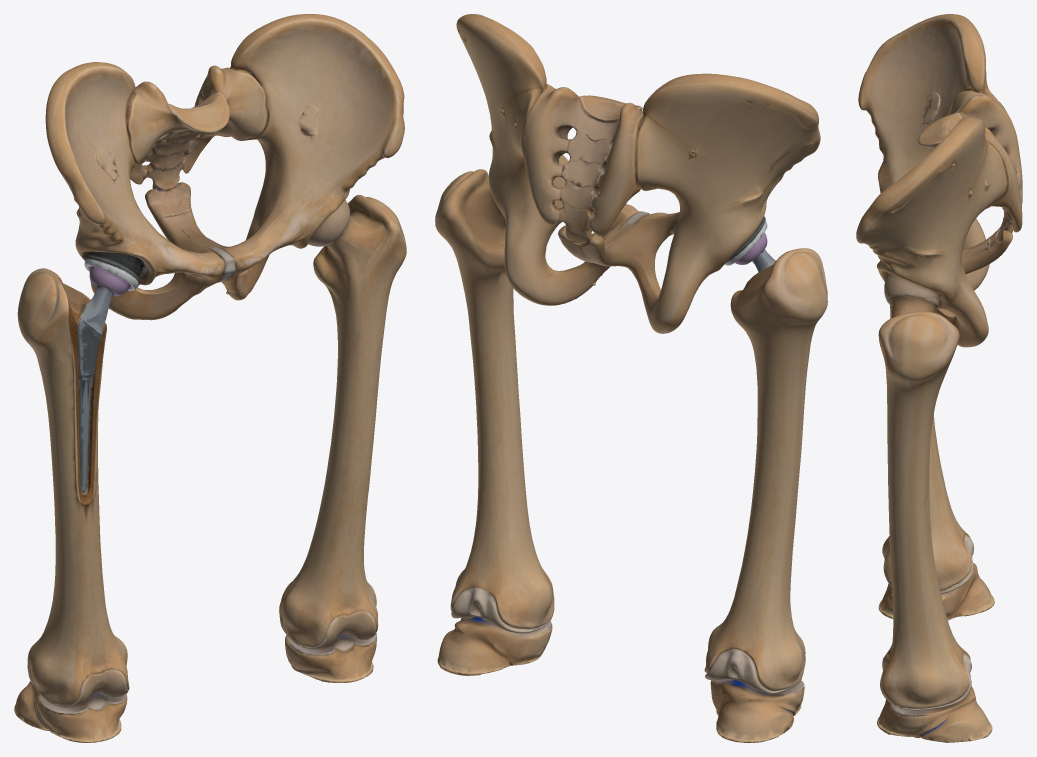
Rendered from implant.glb.
3 renders of one model, left to right at view 1: azimuth 30°, elevation 25°; view 2: azimuth 150°, elevation 25°; view 3: azimuth 270°, elevation 25°, orthographic. The views are drawn at different scales.
Visible parts, largest first — view 1: world; view 2: world; view 3: world.
Part boxes in pixels (left/top/right/bottom): world: left=14, top=14, right=406, bottom=742; world: left=435, top=14, right=827, bottom=742; world: left=856, top=14, right=1022, bottom=742.
Size of the model in its own units: 0.616 by 0.9999 by 0.2529.
1 material, 1 textured.
